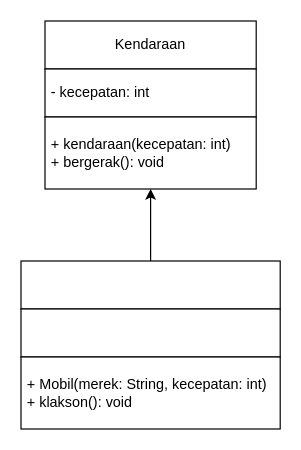
This 301x450 diagram has some shape labels left out. The centre of each missing label's shape, as x and y in pixels:
"- merek: String" goes at pixel 150 332.
"Mobil" goes at pixel 150 284.
